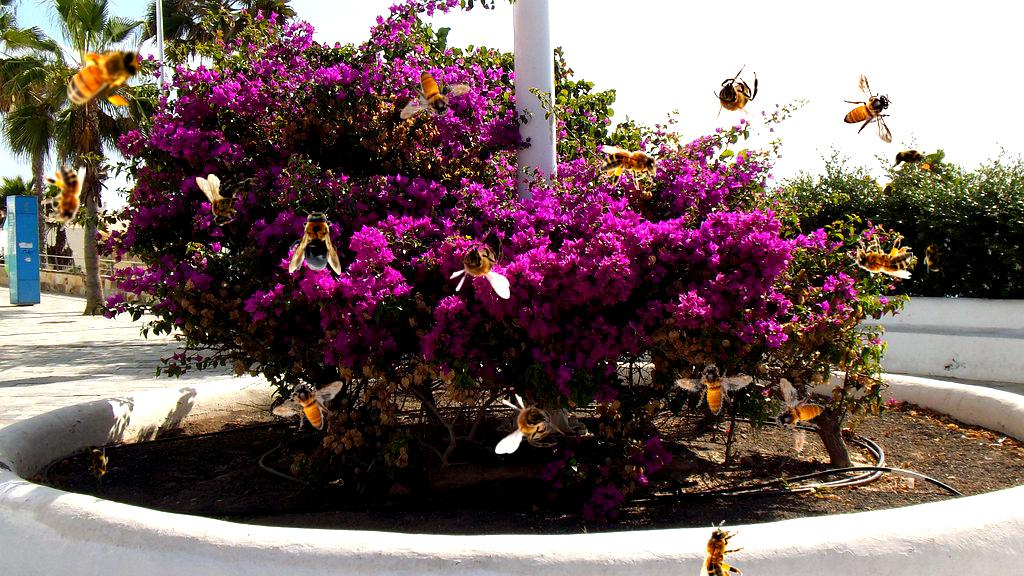Bee: (54, 42, 147, 110), (670, 351, 754, 424), (767, 377, 829, 456), (449, 229, 510, 299), (704, 64, 765, 134), (495, 393, 565, 454), (843, 73, 893, 144), (400, 70, 471, 120), (272, 380, 343, 430), (289, 207, 341, 275), (196, 174, 258, 227), (847, 234, 913, 279), (600, 145, 666, 190), (41, 165, 86, 231), (699, 520, 744, 576), (889, 147, 929, 169), (87, 444, 109, 484), (923, 237, 945, 277)
